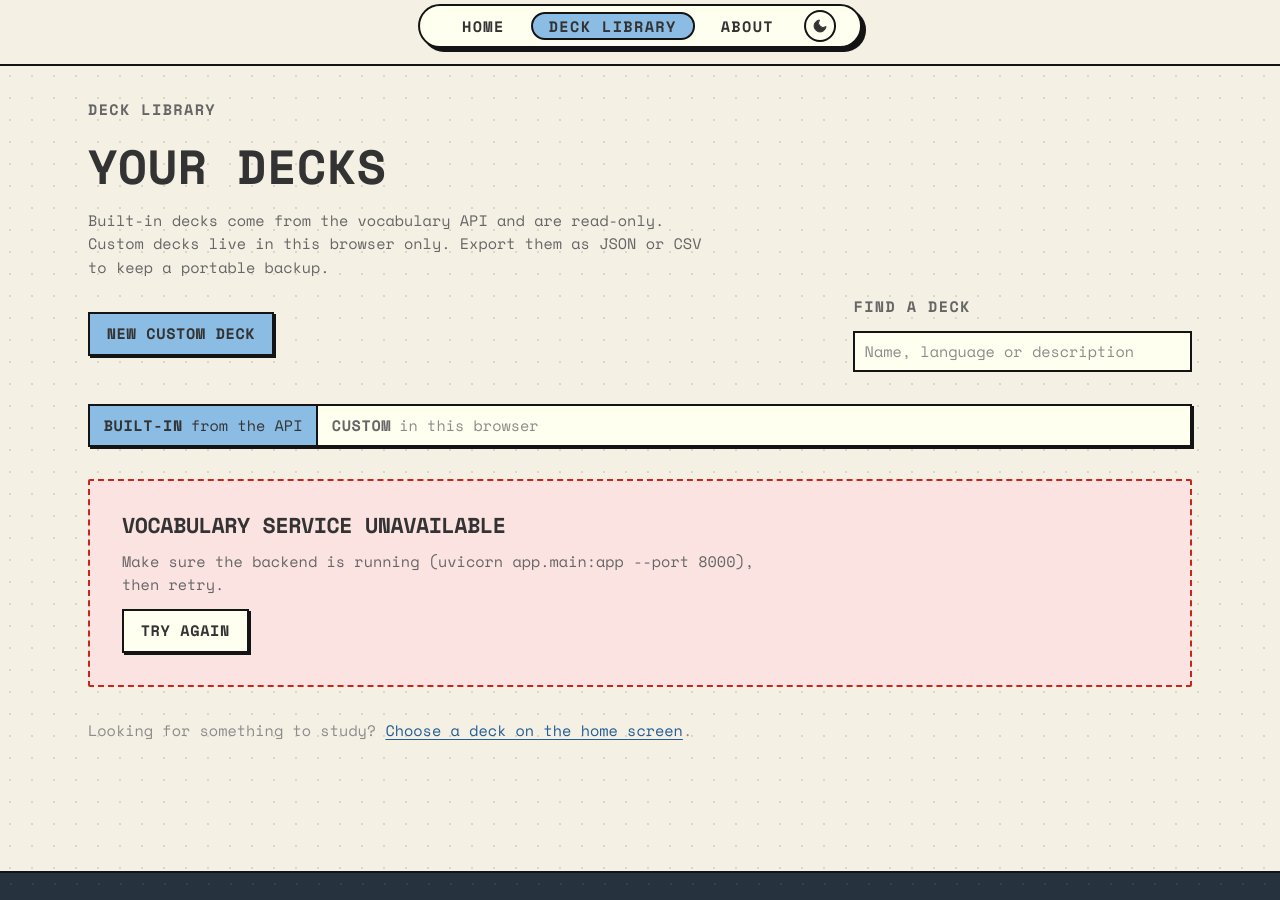
Test: custom deck creation and editing › deleting requires confirmation and keeps the deck when cancelled
Click the button "Custom in this browser" at (434, 426), box [316, 406, 552, 445]
(page scrolled)
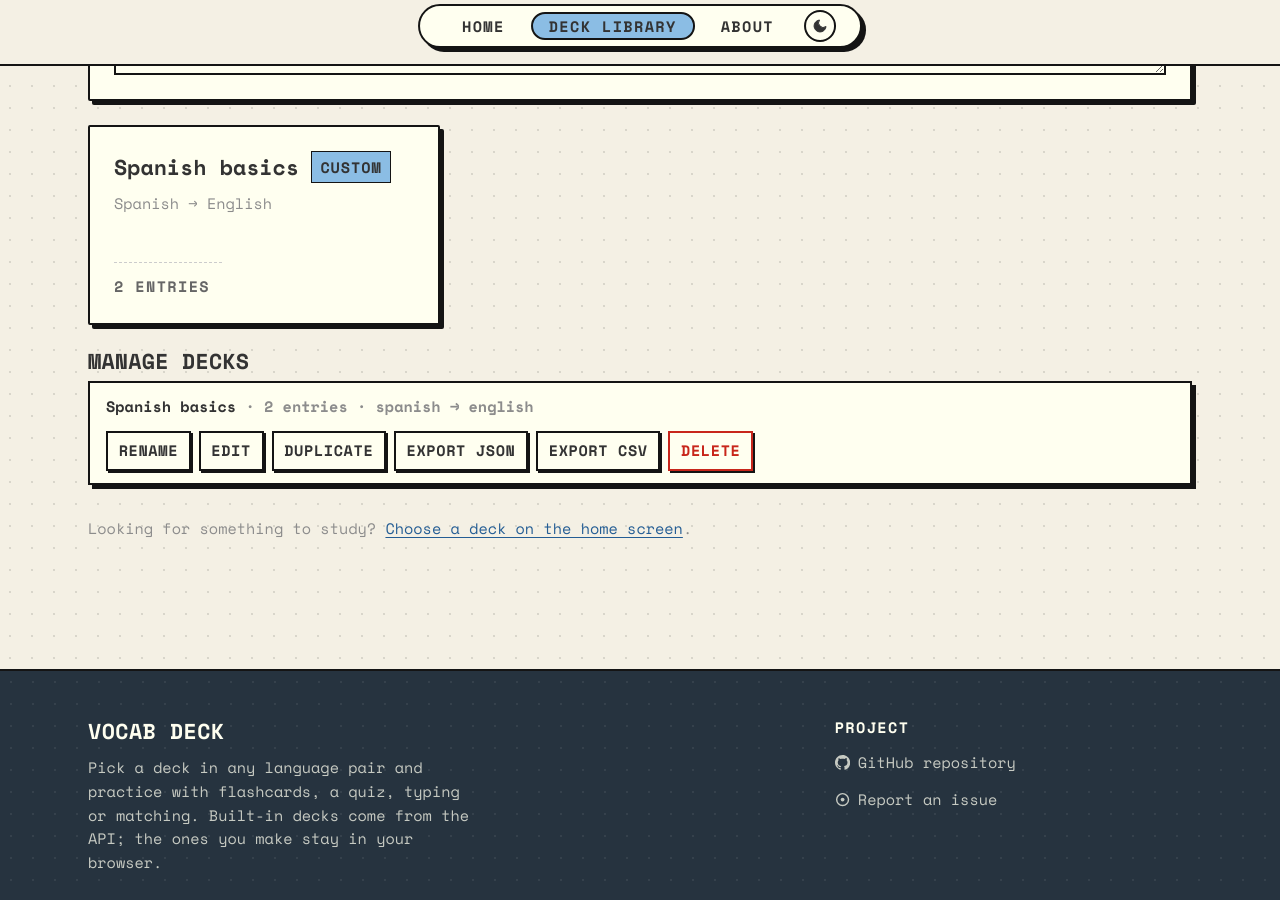
Click the button "Delete" at (711, 451), box [668, 431, 753, 471]
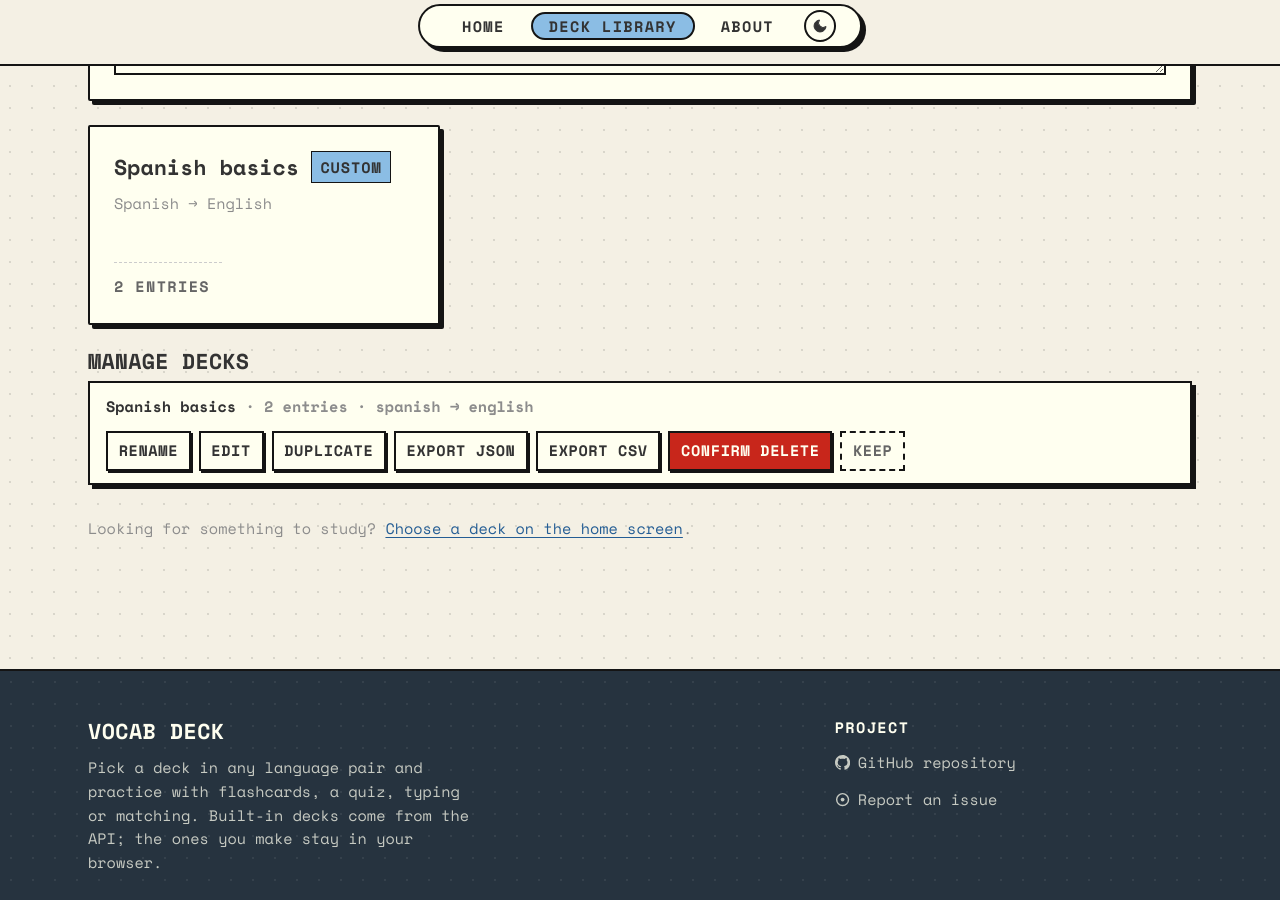
// Cancelling keeps the deck.
Click the button "Keep" at (873, 451), box [840, 431, 905, 471]
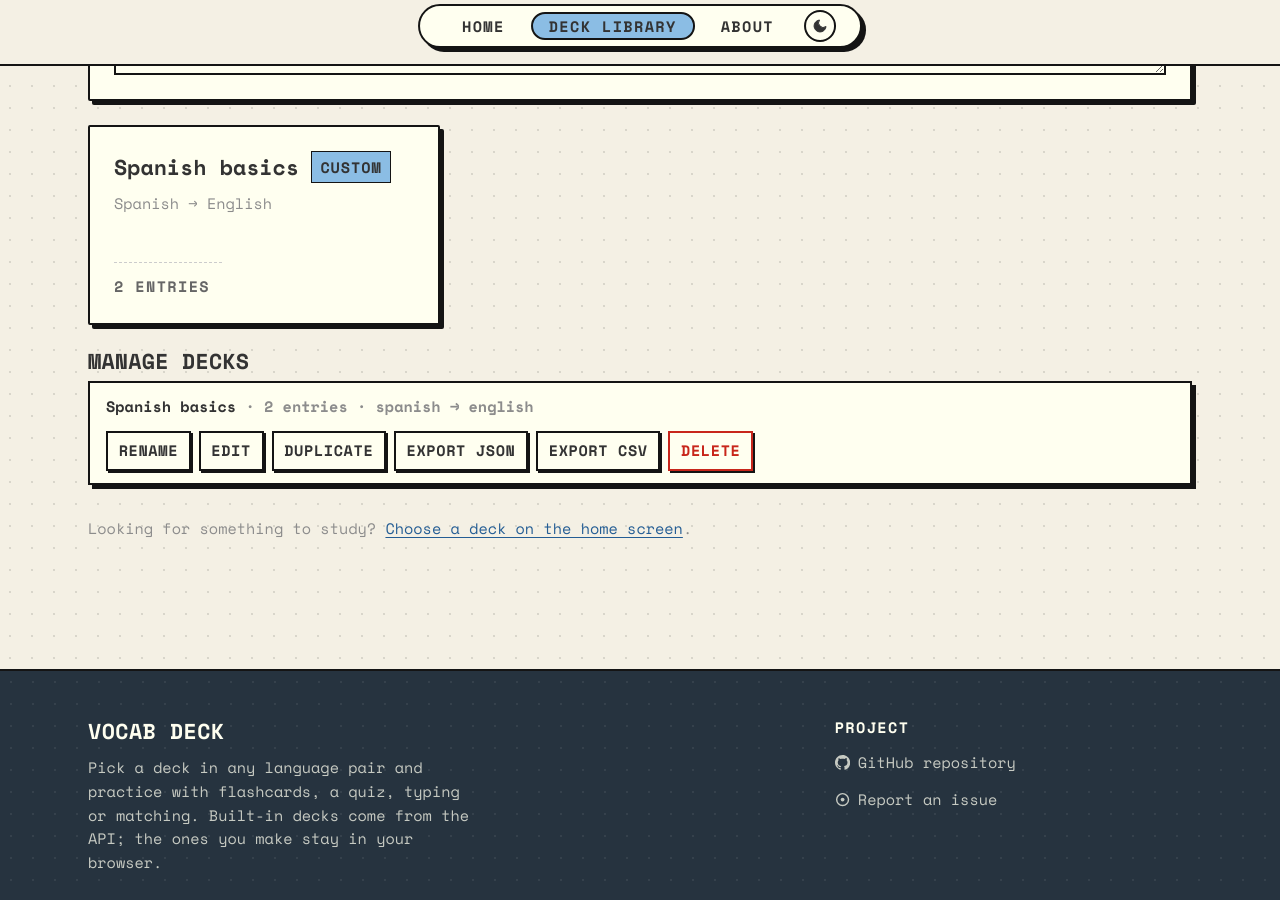
Click the button "Delete" at (711, 451), box [668, 431, 753, 471]
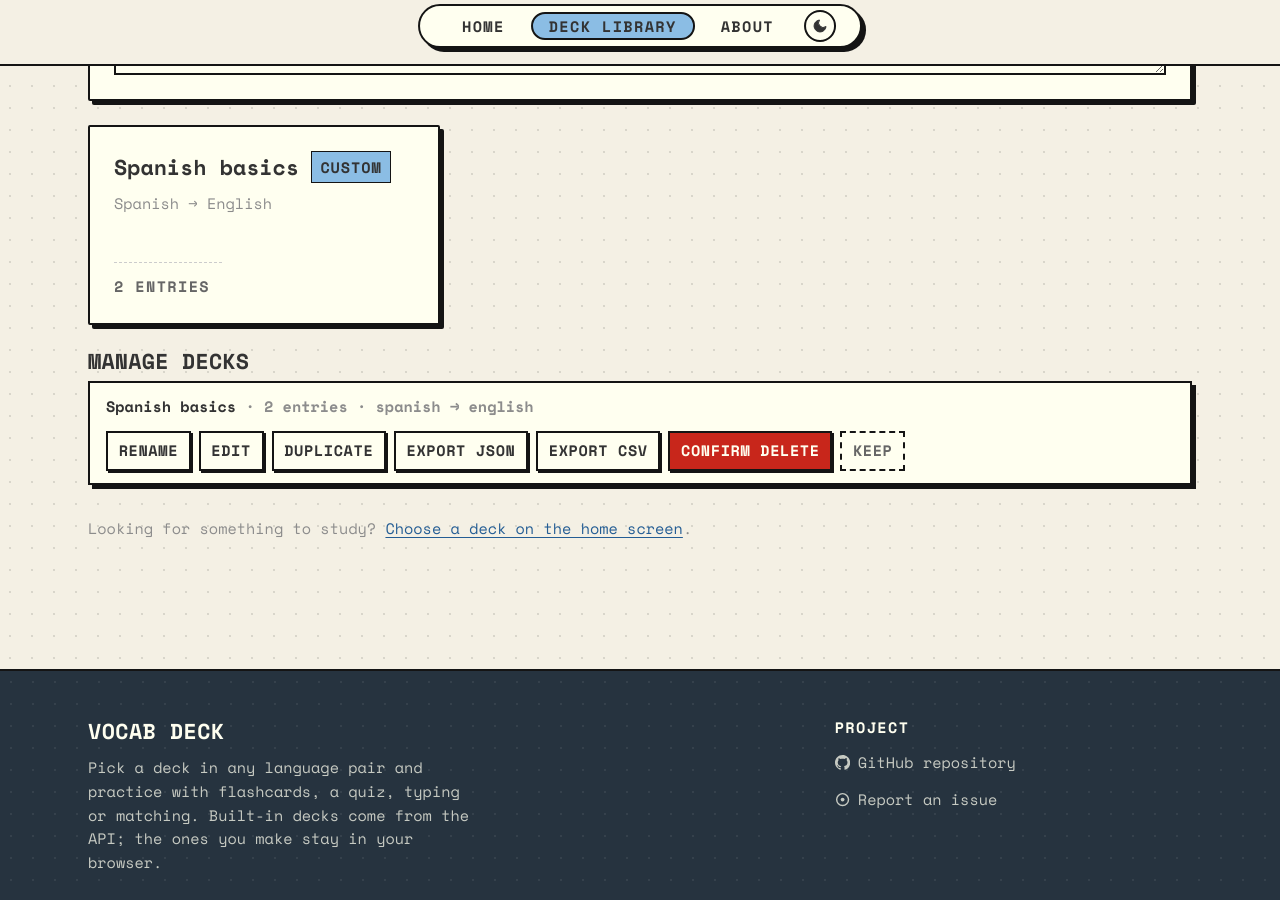
Click the button "Confirm delete" at (750, 451), box [668, 431, 832, 471]
(page scrolled)
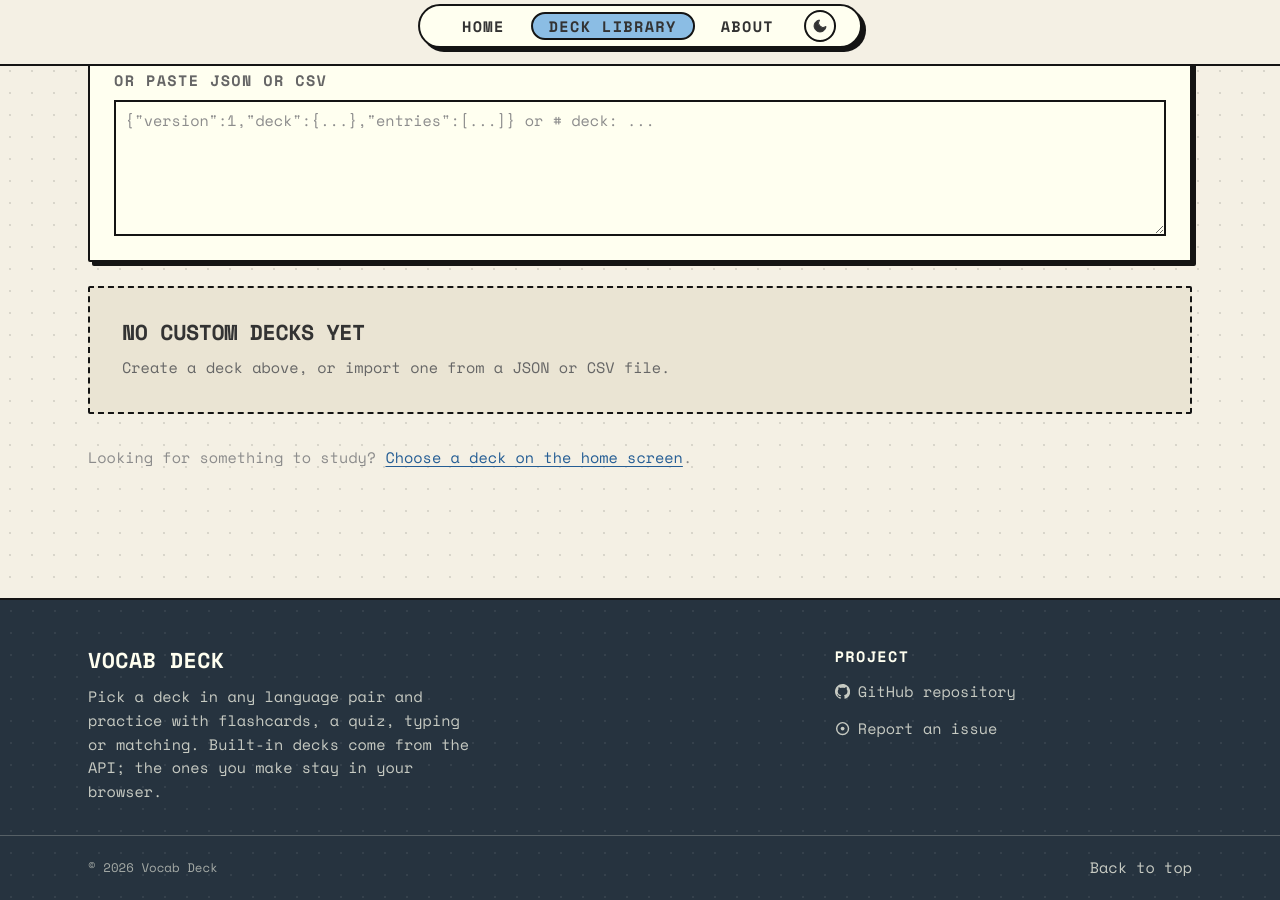
Result: the heading "No custom decks yet" is shown at [122, 320, 365, 344]
